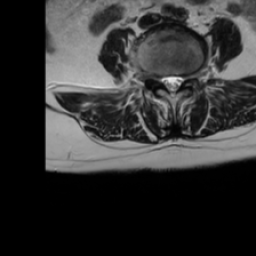CCS_normal: (168, 68, 175, 102)
LFS_stenosis: (182, 68, 190, 89)
LLS_normal: (175, 69, 182, 95)
RFS_severe_stenosis: (153, 69, 161, 89)
RLS_normal: (161, 69, 168, 90)
